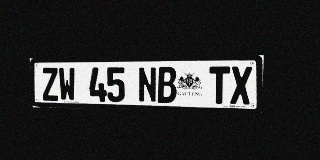4: (88, 67, 107, 102)
5: (106, 67, 125, 102)
B: (157, 67, 176, 103)
N: (138, 67, 157, 103)
T: (209, 66, 230, 104)
W: (58, 67, 76, 101)
X: (230, 66, 252, 104)
Z: (41, 67, 59, 101)
